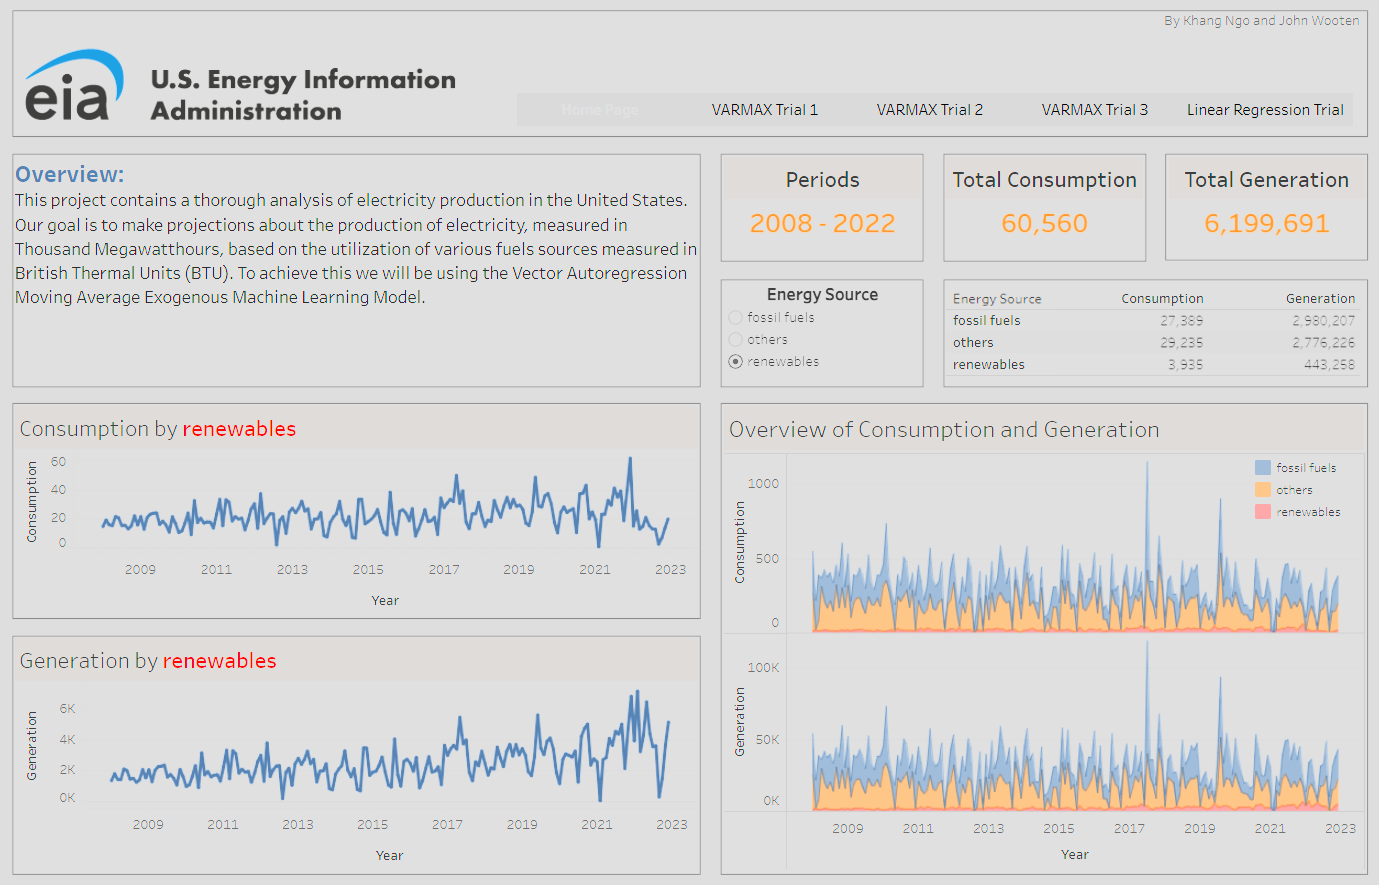

The dashboard page shown, as its layout file describes it:
{"tool":"tableau","page":{"name":"db_home","canvas":[1000,1000],"units":"permille","ordinal":0},"visuals":[{"type":"image","box":[16.7,22.1,957.9,123.8]},{"type":"image","param":"Image/jwooten.png","box":[931.8,24.5,22.2,34.3]},{"type":"image","param":"Image/kngo.png","box":[960.3,24.5,22.2,34.3]},{"type":"dashboard-object","box":[375.4,106.6,119,36.8]},{"type":"dashboard-object","box":[494.4,106.6,119,36.8]},{"type":"dashboard-object","box":[613.5,106.6,119,36.8]},{"type":"dashboard-object","box":[732.5,106.6,119,36.8]},{"type":"dashboard-object","box":[851.6,106.6,127,36.8]},{"type":"text","box":[12.7,177.7,492.9,252.5]},{"type":"worksheet","title":"home_period","mark":"Text","box":[524.6,177.7,143.7,110.3]},{"type":"worksheet","title":"home_cons_total","mark":"Text","box":[684.9,177.7,143.7,110.3]},{"type":"worksheet","title":"home_gen_total","mark":"Text","box":[845.2,177.7,143.7,110.3]},{"type":"filter","title":"sel_src","param":"[federated.1p4xuqs13geduw1461ot61lsw036].[none:energySource:nk]","box":[524.6,317.4,142.1,114]},{"type":"worksheet","title":"home_data_all","mark":"Automatic","rows":["energySource"],"box":[684.9,323.5,302.4,111.5]},{"type":"worksheet","title":"sel_src","mark":"Automatic","box":[527,332.1,42.9,46.6]},{"type":"worksheet","title":"home_cons_filter","mark":"Automatic","rows":["consumption-for-eg-btu"],"cols":["period"],"box":[12.7,455.9,492.9,232.8]},{"type":"worksheet","title":"home_overview","mark":"Area","rows":["consumption-for-eg-btu","generation"],"cols":["period"],"box":[524.6,455.9,462.7,517.2]},{"type":"legend","title":"home_overview","param":"[federated.1p4xuqs13geduw1461ot61lsw036].[none:energySource:nk]","box":[905.6,512.2,79.4,79.7]},{"type":"worksheet","title":"home_gen_filter","mark":"Line","rows":["generation"],"cols":["period"],"box":[12.7,714.5,492.9,258.6]}]}

Visuals, with their boxes on the dashboard's canvas, which has no fixed pixel size, in thousandths of its width and height (x1, y1, x2, y2). These are canvas units, not pixel positions in the 1379x885 screenshot, which may show the page scaled, cropped or inside an application window:
image: 17, 22, 975, 146
image: 932, 24, 954, 59
image: 960, 24, 982, 59
dashboard-object: 375, 107, 494, 143
dashboard-object: 494, 107, 613, 143
dashboard-object: 614, 107, 732, 143
dashboard-object: 732, 107, 852, 143
dashboard-object: 852, 107, 979, 143
text: 13, 178, 506, 430
"home_period" worksheet (Text marks): 525, 178, 668, 288
"home_cons_total" worksheet (Text marks): 685, 178, 829, 288
"home_gen_total" worksheet (Text marks): 845, 178, 989, 288
"sel_src" filter: 525, 317, 667, 431
"home_data_all" worksheet: 685, 324, 987, 435
"sel_src" worksheet: 527, 332, 570, 379
"home_cons_filter" worksheet: 13, 456, 506, 689
"home_overview" worksheet (Area marks): 525, 456, 987, 973
"home_overview" legend: 906, 512, 985, 592
"home_gen_filter" worksheet (Line marks): 13, 714, 506, 973
